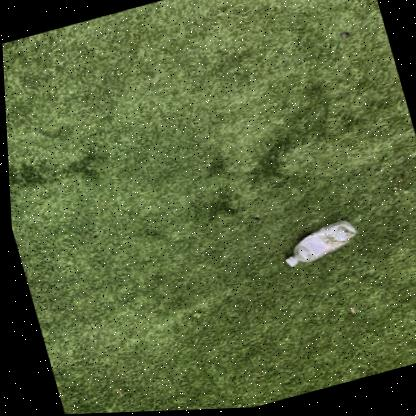Plastic: (282, 222, 353, 268)
